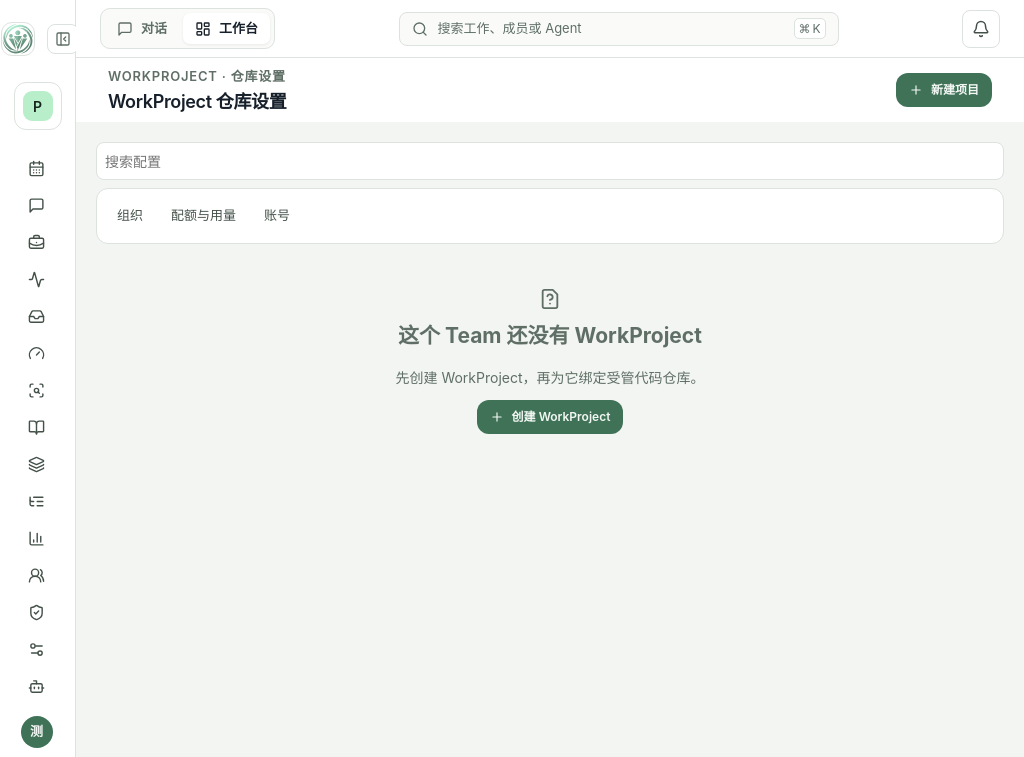
RepositorySettingsPage › creates the first WorkProject in place before loading repository settings
The width and height of the screenshot is (1024, 757).
Click the button "创建 WorkProject". click: coordinates (550, 417)
box: [477,400,623,434]
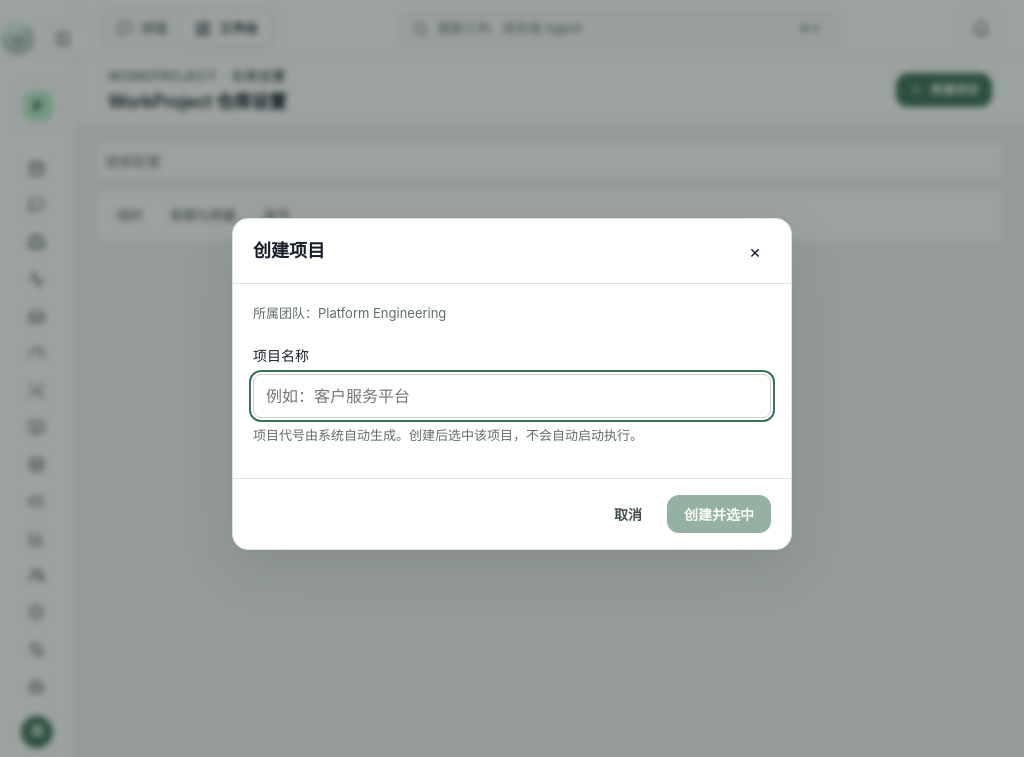
Type "CrewScope Platform" into the field labelled "项目名称". click: coordinates (512, 396)
box: [253,374,771,418]
Wait 250 ms
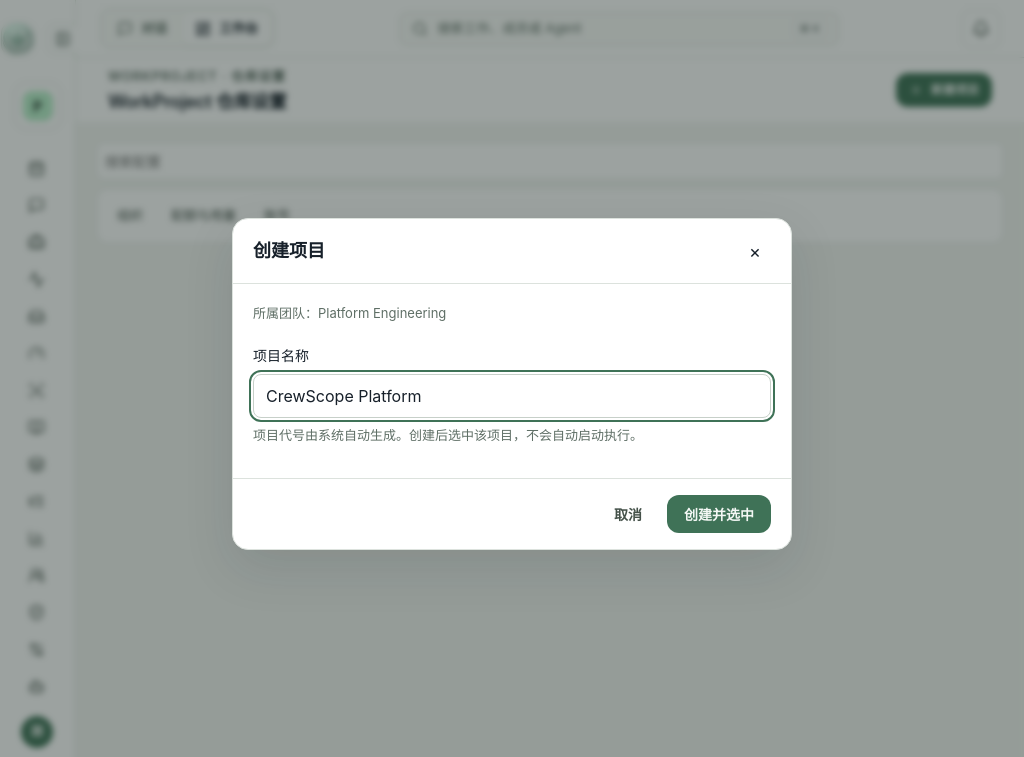
Submit the form, box [253,304,771,458]
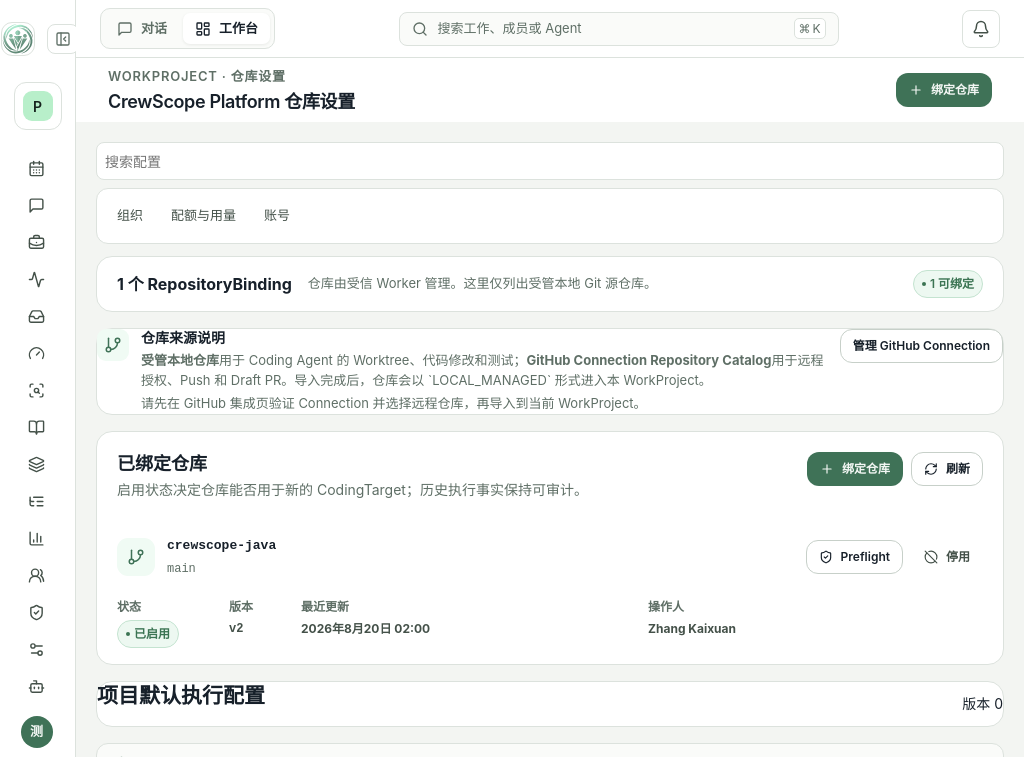
Expected: the text "1 个 RepositoryBinding" is shown, [117,274,292,294]
Expected: the text "crewscope-java" is shown, [167,536,276,556]
Expected: the form is gone
